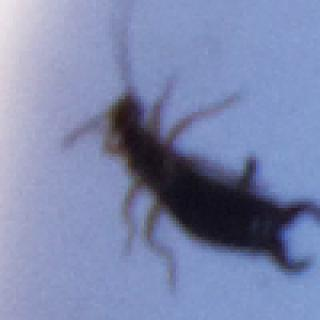earwig: (61, 2, 320, 294)
